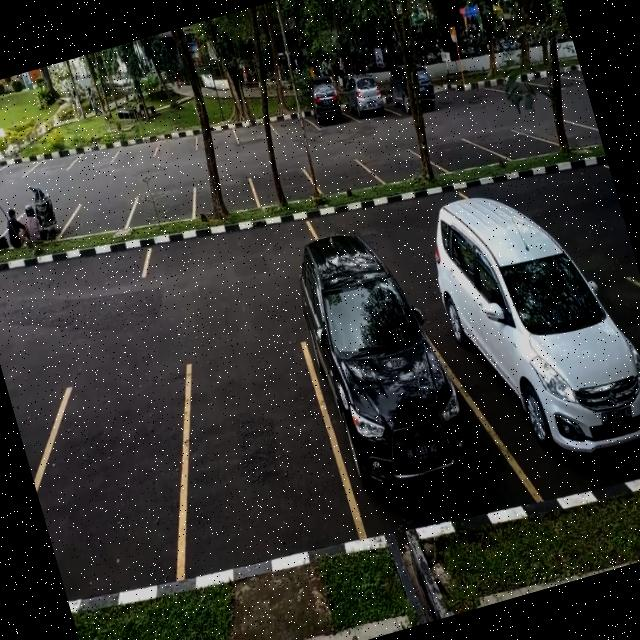empty: (9, 358, 214, 614), (156, 328, 364, 576), (67, 184, 141, 242), (188, 165, 260, 222), (246, 151, 314, 210), (132, 176, 200, 232), (304, 144, 374, 197), (424, 122, 492, 176), (366, 134, 432, 188), (484, 119, 545, 166), (108, 127, 160, 167), (229, 107, 278, 148), (152, 125, 200, 160)
occupied: (433, 225, 640, 507), (291, 255, 495, 538), (301, 72, 351, 130), (340, 72, 390, 126)
